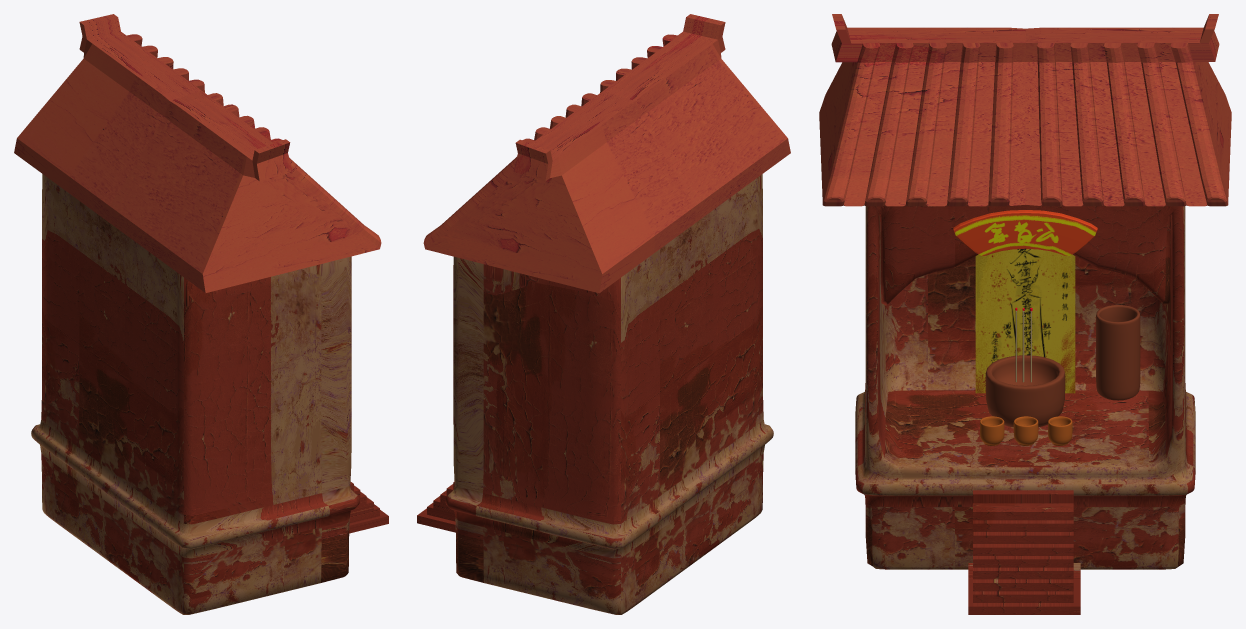
File: Shrine.fbx
3 views of the same model, side by side, from view 1: azimuth 30°, elevation 25°; view 2: azimuth 150°, elevation 25°; view 3: azimuth 270°, elevation 25° (orthographic). The views are drawn at different scales.
Parts seen in each view (by area): view 1: Cube.008; view 2: Cube.008; view 3: Cube.008.
Boxes of the visible parts, x1,y1,x2,y2 form: Cube.008: (14, 14, 388, 614); Cube.008: (417, 14, 790, 614); Cube.008: (819, 14, 1231, 614).
Bounding box in the file's own units: 190 × 329 × 245.
Materials: 8 (4 with a texture image).
